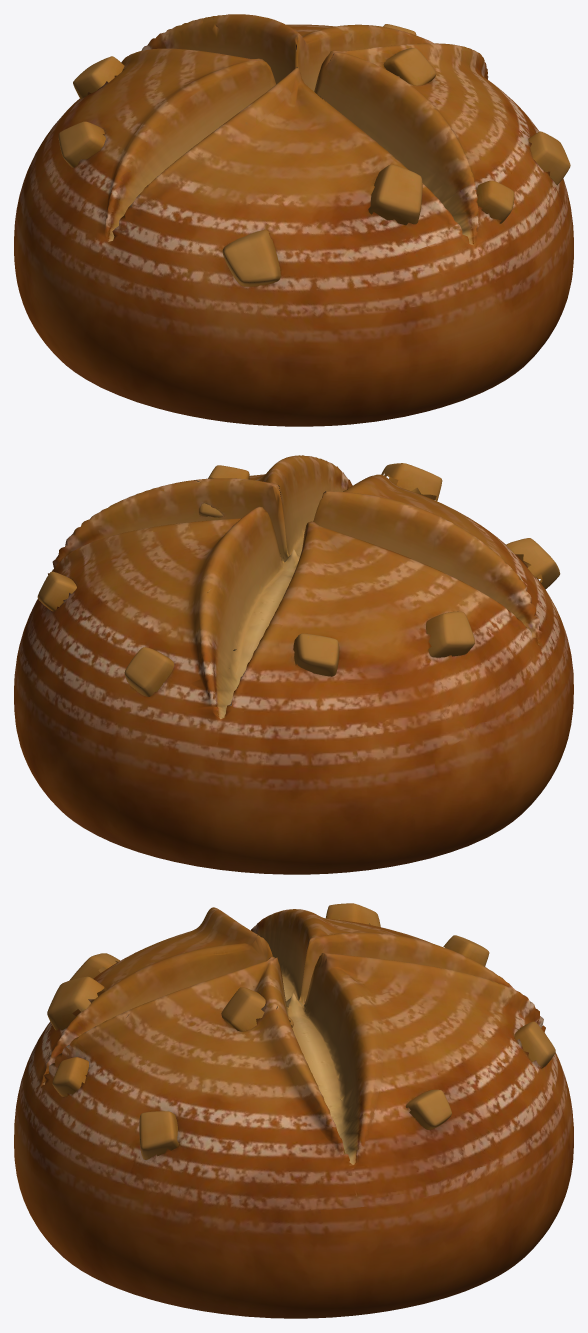
File: campagne--maple-cube.glb
3 renders of one model, top to bottom at view 1: azimuth 30°, elevation 25°; view 2: azimuth 150°, elevation 25°; view 3: azimuth 270°, elevation 25°, orthographic.
Visible parts, largest first — view 1: campagne_maple-cube; view 2: campagne_maple-cube; view 3: campagne_maple-cube.
Part boxes in pixels (x1,y1,x2,y2): campagne_maple-cube: (14, 14, 573, 426); campagne_maple-cube: (14, 455, 573, 874); campagne_maple-cube: (14, 903, 573, 1318).
Size of the model in its own units: 0.9987 by 0.5303 by 0.9991.
1 material, 1 textured.
